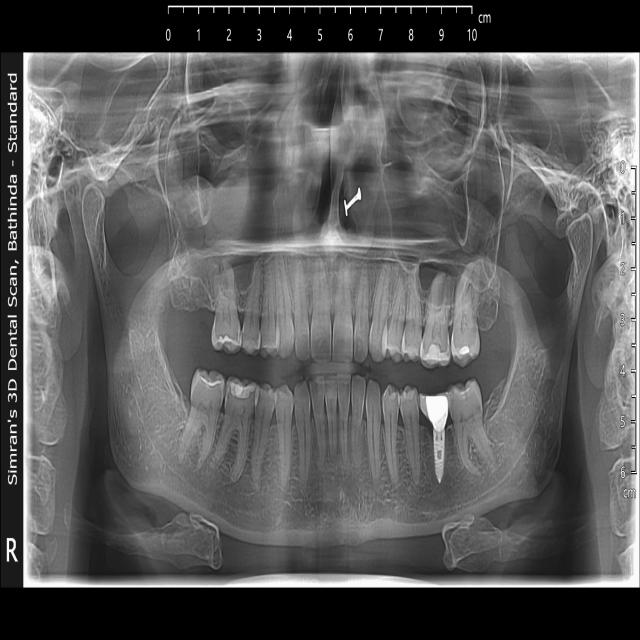Crown: (420, 390, 452, 429)
Filling: (448, 376, 483, 424), (421, 326, 450, 364), (231, 382, 255, 400), (458, 340, 470, 356)
Implant: (432, 427, 446, 484)
Missing teeth: (181, 289, 210, 332)
